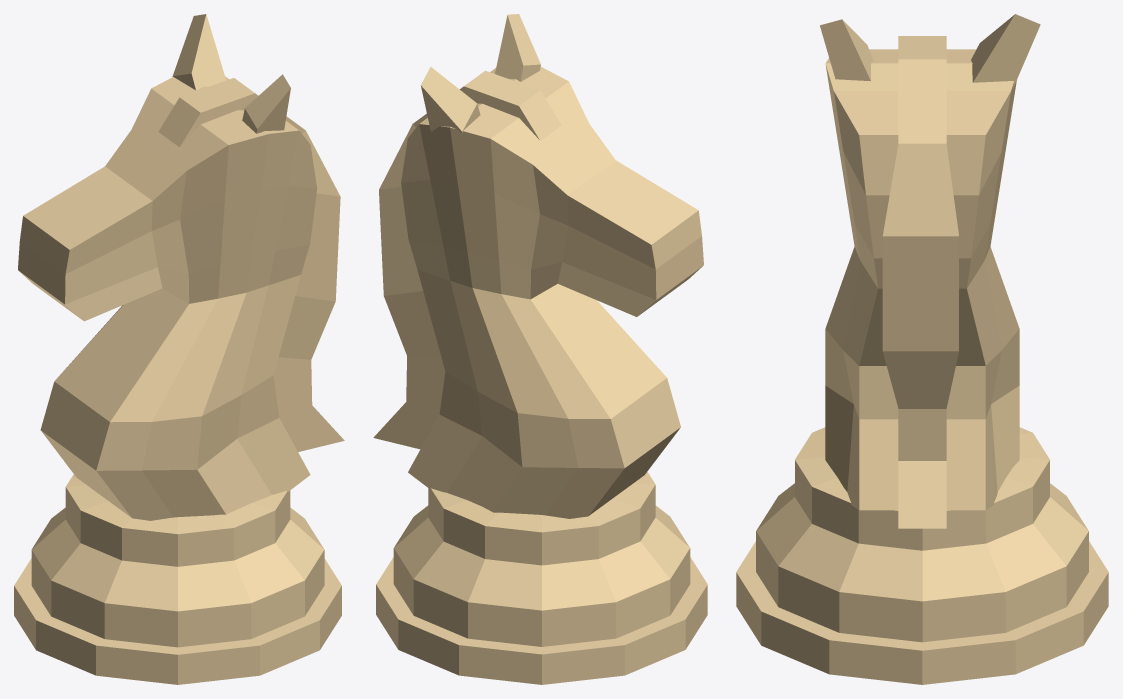
Rendered from lowpoly_n_w.glb.
3 views of the same model, side by side, from view 1: azimuth 30°, elevation 25°; view 2: azimuth 150°, elevation 25°; view 3: azimuth 270°, elevation 25° (orthographic). The views are drawn at different scales.
Parts seen in each view (by area): view 1: Knight.001; view 2: Knight.001; view 3: Knight.001.
Boxes of the visible parts, x1,y1,x2,y2 form: Knight.001: (14,14,344,684); Knight.001: (373,14,707,684); Knight.001: (736,14,1108,684).
Size of the model in its own units: 0.0862 by 0.1533 by 0.0821.
